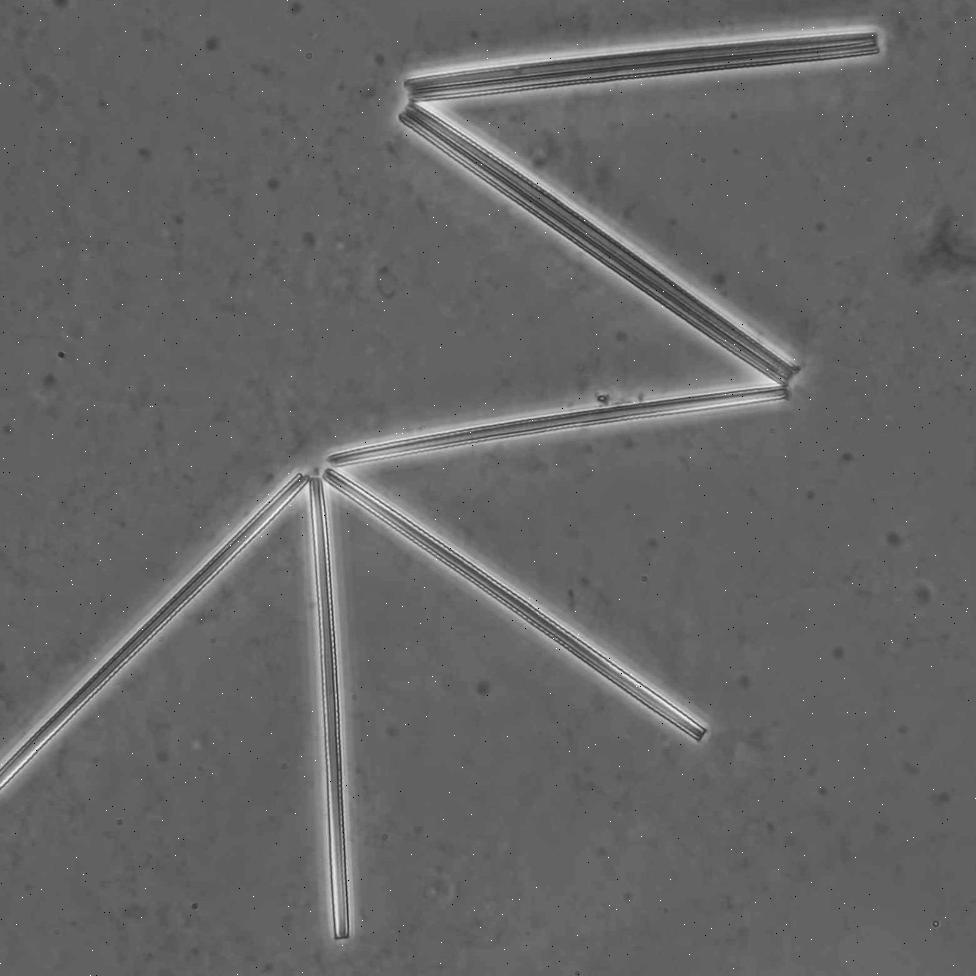thalassionema_nitzschioides: (0, 29, 880, 939)
